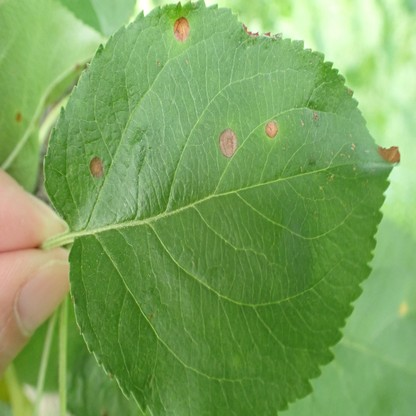frogeye_leaf_spot: (219, 128, 237, 159), (174, 16, 191, 44), (377, 146, 401, 162), (89, 156, 104, 176), (265, 120, 277, 139)
